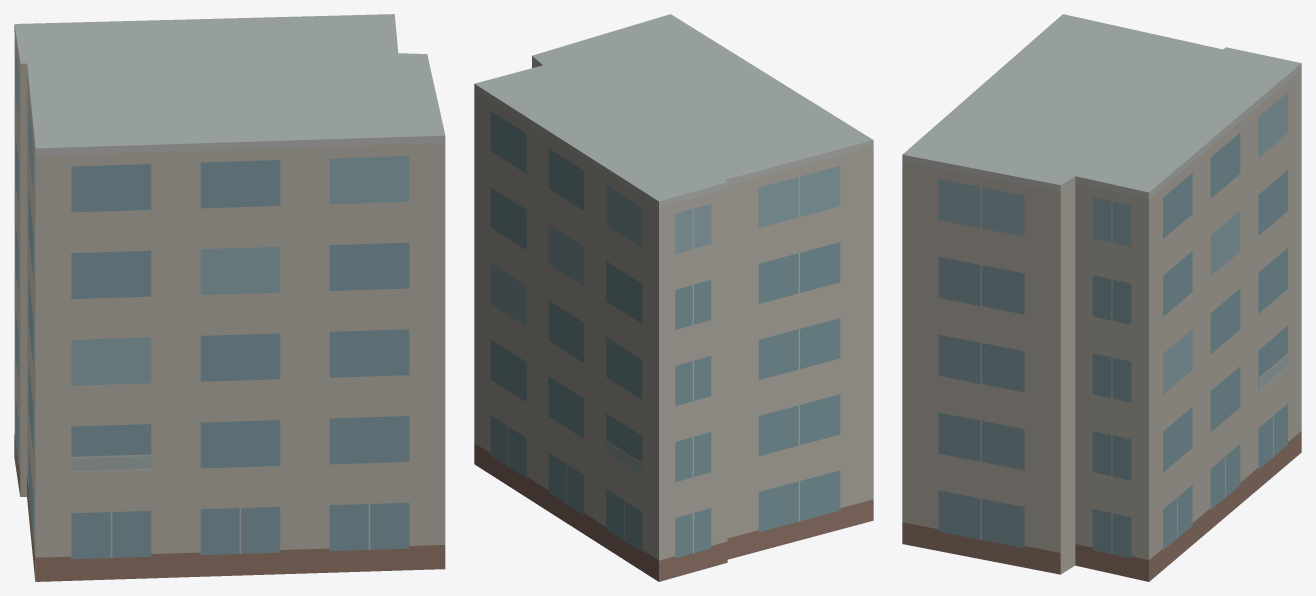
File: survey-upis-33042584.glb
3 views of the same model, side by side, from view 1: azimuth 30°, elevation 25°; view 2: azimuth 150°, elevation 25°; view 3: azimuth 270°, elevation 25° (orthographic). The views are drawn at different scales.
Visible parts, largest first — view 1: survey-upis-33042584.tmp; view 2: survey-upis-33042584.tmp; view 3: survey-upis-33042584.tmp.
Boxes of the visible parts, <box> form: survey-upis-33042584.tmp: <box>14,14,445,581</box>; survey-upis-33042584.tmp: <box>474,14,873,581</box>; survey-upis-33042584.tmp: <box>902,14,1301,581</box>.
Bounding box in the file's own units: 14.31 × 14.55 × 13.53.
